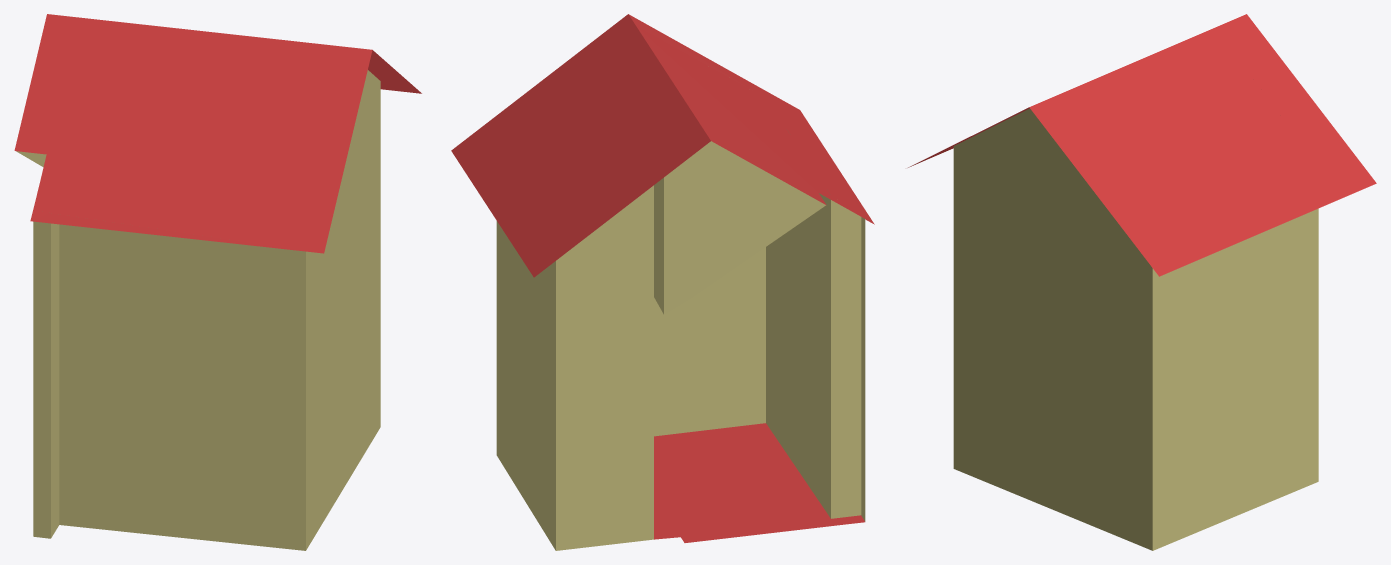
3 renders of one model, left to right at view 1: azimuth 30°, elevation 25°; view 2: azimuth 150°, elevation 25°; view 3: azimuth 270°, elevation 25°, orthographic. The views are drawn at different scales.
Bounding box in the file's own units: 14.53 × 15.24 × 14.55.
